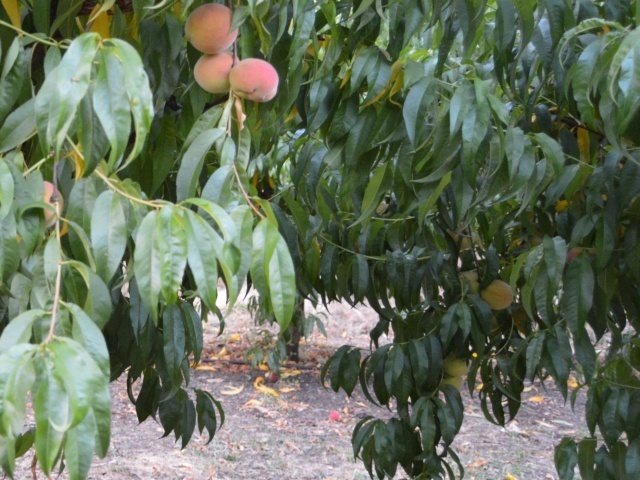peach: (179, 0, 242, 57), (225, 56, 284, 105), (189, 49, 244, 99), (35, 179, 67, 230), (478, 275, 520, 313), (440, 350, 471, 379)
